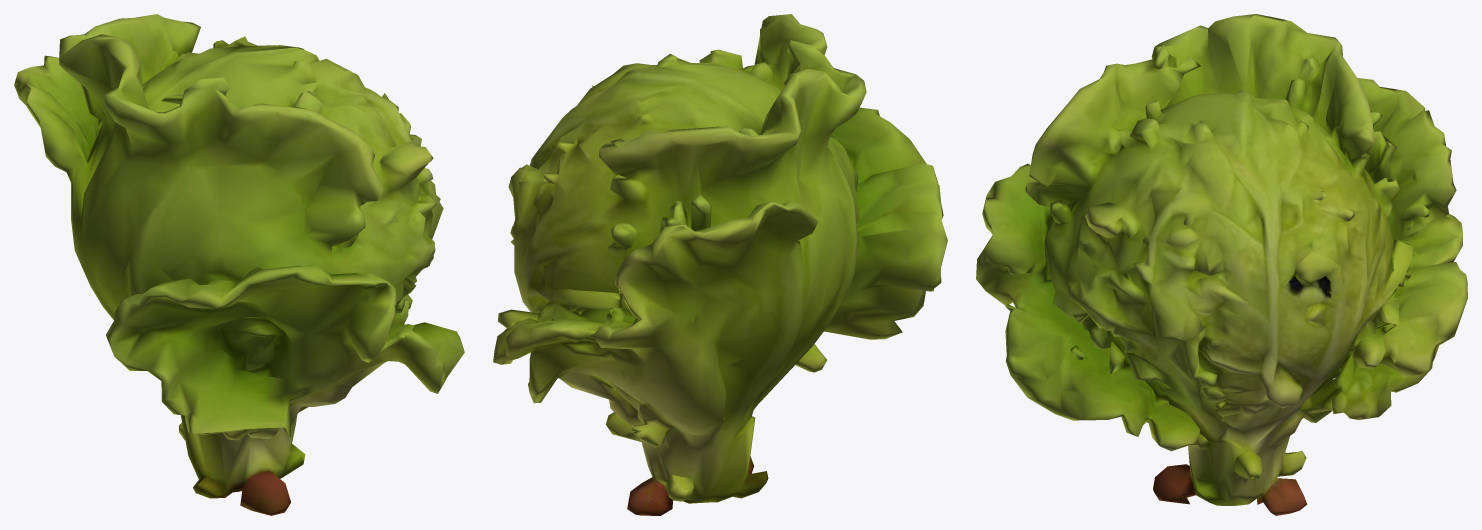
File: lettuce_tripo.glb
3 renders of one model, left to right at view 1: azimuth 30°, elevation 25°; view 2: azimuth 150°, elevation 25°; view 3: azimuth 270°, elevation 25°, orthographic. The views are drawn at different scales.
Parts seen in each view (by area): view 1: tripo_node_850abf58-ff8a-44d2-991b-1df369c895ce; view 2: tripo_node_850abf58-ff8a-44d2-991b-1df369c895ce; view 3: tripo_node_850abf58-ff8a-44d2-991b-1df369c895ce.
Boxes of the visible parts, box(x1,y1,x2,y2) form: tripo_node_850abf58-ff8a-44d2-991b-1df369c895ce: box(14, 14, 464, 515); tripo_node_850abf58-ff8a-44d2-991b-1df369c895ce: box(493, 14, 947, 515); tripo_node_850abf58-ff8a-44d2-991b-1df369c895ce: box(976, 14, 1467, 515).
Bounding box in the file's own units: 0.7895 × 0.9702 × 1.
1 material, 1 textured.
